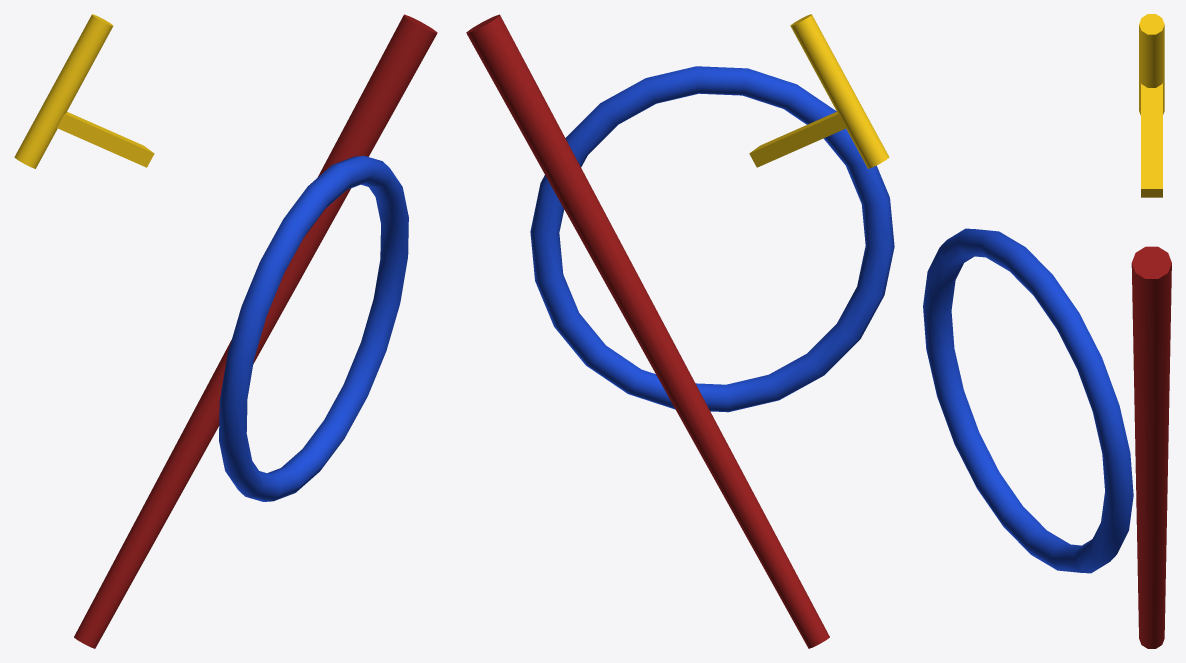
The model's file is sheathed_sword.glb.
The picture shows the model from 3 angles, left to right: view 1: azimuth 30°, elevation 25°; view 2: azimuth 150°, elevation 25°; view 3: azimuth 270°, elevation 25°; orthographic projection.
Visible parts, largest first — view 1: baldric, scabbard, sword_hilt, sword_guard; view 2: baldric, scabbard, sword_hilt, sword_guard; view 3: baldric, scabbard, sword_guard, sword_hilt.
Part boxes in pixels (x1,y1,x2,y2): baldric: [219, 156, 408, 501]; scabbard: [74, 14, 437, 648]; sword_hilt: [14, 14, 113, 168]; sword_guard: [57, 112, 154, 167]; baldric: [530, 66, 894, 412]; scabbard: [466, 14, 829, 648]; sword_hilt: [790, 14, 889, 168]; sword_guard: [749, 112, 846, 167]; baldric: [923, 228, 1133, 573]; scabbard: [1131, 246, 1171, 648]; sword_guard: [1141, 83, 1162, 197]; sword_hilt: [1139, 14, 1164, 115].
Size of the model in its own units: 0.5317 by 0.7661 by 0.2721.
